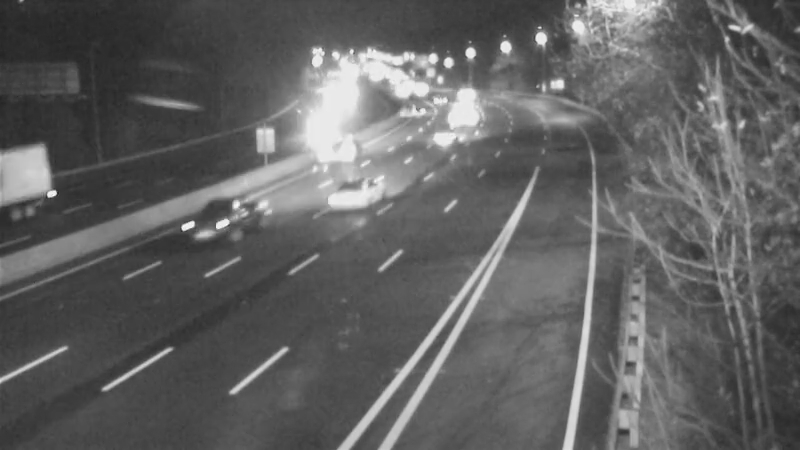vehicle: (312, 153, 392, 233), (153, 187, 233, 267), (1, 162, 68, 242), (395, 64, 445, 114), (375, 67, 425, 117), (439, 68, 489, 118), (407, 73, 457, 123), (440, 82, 490, 132), (383, 83, 433, 133), (434, 87, 484, 137), (417, 113, 467, 163), (327, 117, 377, 167), (296, 103, 346, 153)
